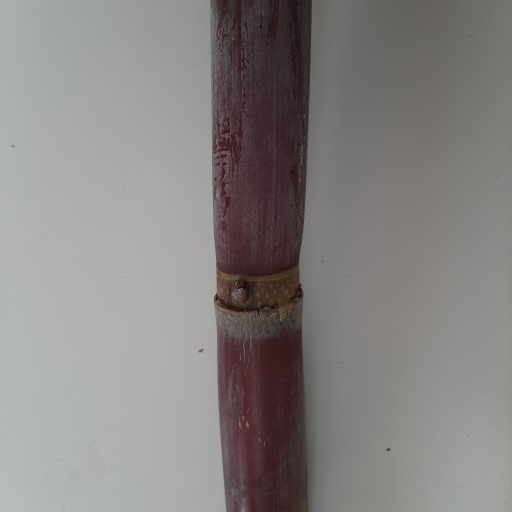Bud: (229, 278, 251, 308)
